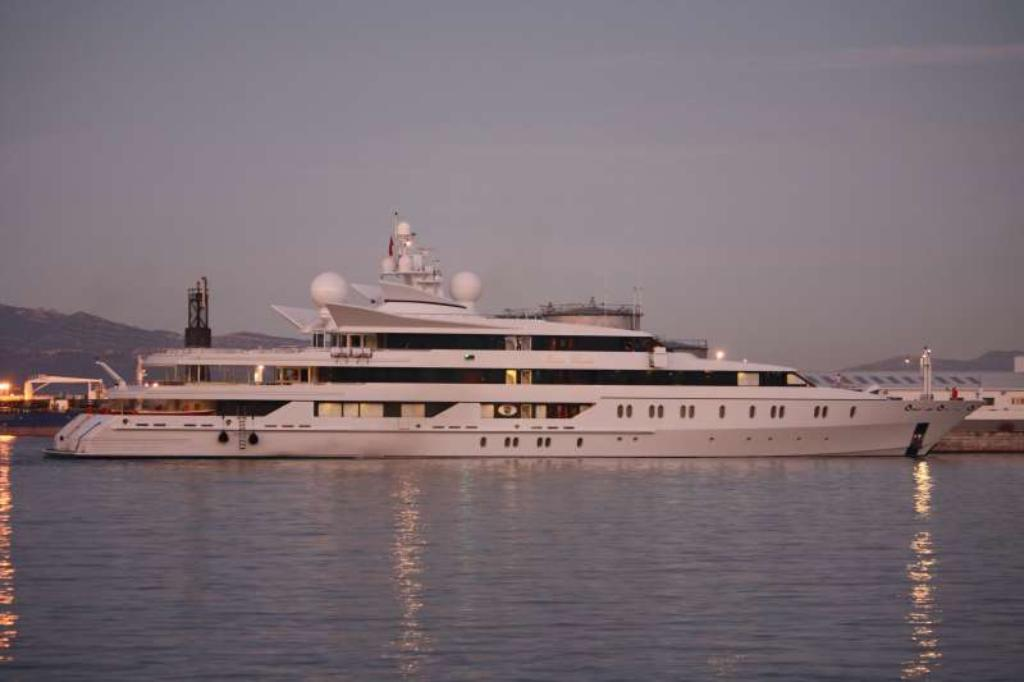PassengerShip: (22, 216, 994, 463)
